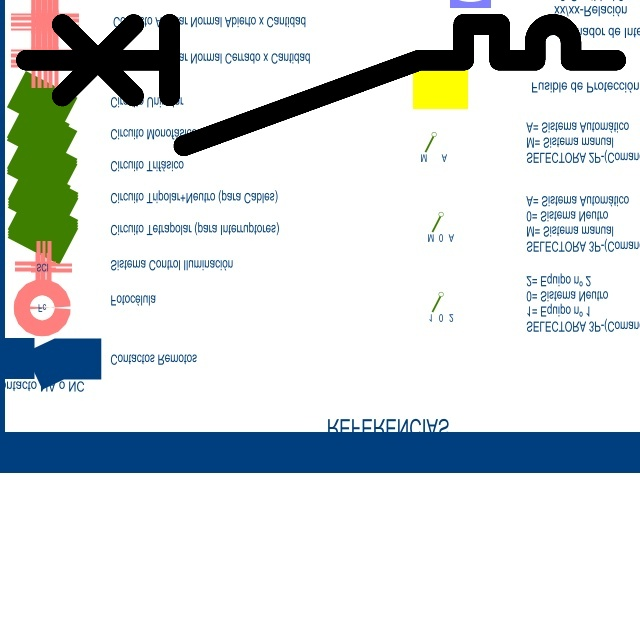interruptor_termomagnetico: (11, 9, 631, 161)
